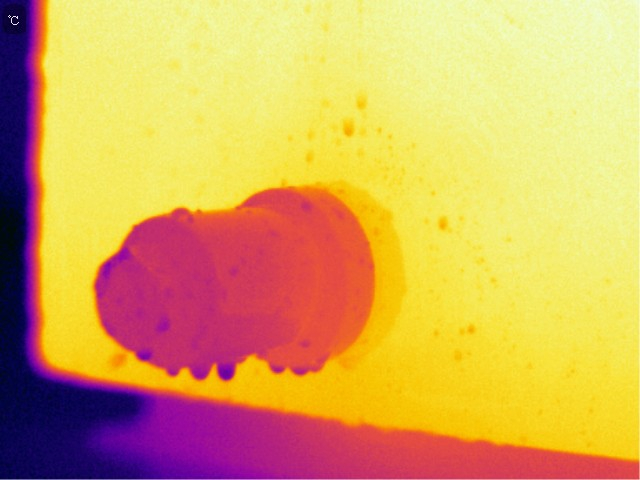Water: (295, 192, 321, 227), (147, 310, 181, 334), (292, 363, 326, 383), (215, 356, 239, 384), (190, 358, 210, 383), (131, 345, 151, 366), (162, 361, 181, 383), (267, 354, 283, 380), (335, 121, 359, 137), (295, 335, 319, 350), (357, 90, 371, 114), (227, 257, 243, 278), (302, 149, 319, 166), (436, 215, 450, 235), (468, 320, 480, 341)
